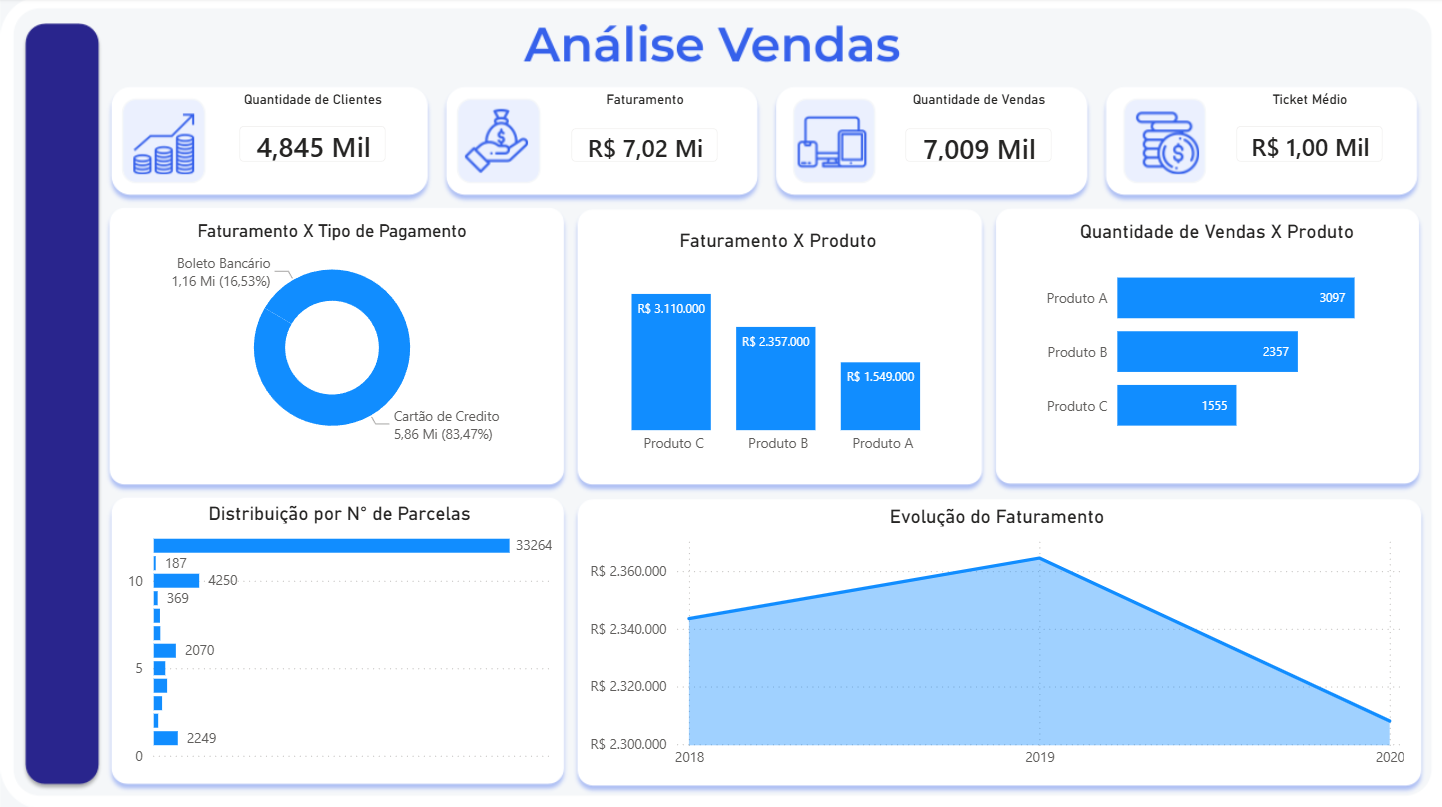

The page's visual inventory and layout, read from the dashboard file:
{"tool":"powerbi","page":{"name":"Página 1","canvas":[1280,720],"ordinal":0},"visuals":[{"type":"cardVisual","title":"Faturamento","fields":{"Data":["Sum(Vendas.Preço)"]},"box":[489.5,83.3,164.9,79.8],"z":0},{"type":"cardVisual","title":"Quantidade de Clientes","fields":{"Data":["Count(Vendas.E-mail)"]},"box":[195.1,83.3,164.9,79.8],"z":1000},{"type":"cardVisual","title":"Quantidade de Vendas","fields":{"Data":["CountNonNull(Vendas.Produto)"]},"box":[785.6,83.3,164.9,79.8],"z":2000},{"type":"cardVisual","title":"Ticket Médio","fields":{"Data":["Vendas.Medida"]},"box":[1079.1,83.3,164.9,79.8],"z":3000},{"type":"clusteredBarChart","title":"Quantidade de Vendas X Produto","fields":{"Category":["Vendas.Produto"],"Y":["Vendas.qtd de vendas"]},"box":[917.7,196.8,322.8,208.4],"z":4000},{"type":"columnChart","title":"Faturamento X Produto","fields":{"Category":["Vendas.Produto"],"Y":["Sum(Vendas.Preço)"]},"box":[517.8,204.8,344,208.4],"z":5000},{"type":"donutChart","title":"Faturamento X Tipo de Pagamento","fields":{"Y":["Sum(Vendas.Preço)"],"Category":["Vendas.Pgto."]},"box":[115.3,196.8,358.2,208.4],"z":6000},{"type":"barChart","title":"Distribuição por N° de Parcelas","fields":{"Category":["Vendas.Nº Parcelas"],"Y":["Sum(Vendas.Nº Parcelas)"]},"box":[107.3,446.9,387.5,244.7],"z":7000},{"type":"areaChart","title":"Evolução do Faturamento","fields":{"Category":["Vendas.Data.Variation.Hierarquia de datas.Ano","Vendas.Data.Variation.Hierarquia de datas.Trimestre","Vendas.Data.Variation.Hierarquia de datas.Mês","Vendas.Data.Variation.Hierarquia de datas.Dia"],"Y":["Sum(Vendas.Preço)"]},"box":[517.8,449.6,732.4,242.1],"z":8000}]}

Visuals, with their boxes in screenshot pixels (x1, y1, x2, y2), scaled from the page's 1280x720 canvas onto the 1442x807 screenshot:
"Faturamento" cardVisual: select_region(551, 93, 737, 183)
"Quantidade de Clientes" cardVisual: select_region(220, 93, 406, 183)
"Quantidade de Vendas" cardVisual: select_region(885, 93, 1071, 183)
"Ticket Médio" cardVisual: select_region(1216, 93, 1401, 183)
"Quantidade de Vendas X Produto" clusteredBarChart: select_region(1034, 221, 1398, 454)
"Faturamento X Produto" columnChart: select_region(583, 230, 971, 463)
"Faturamento X Tipo de Pagamento" donutChart: select_region(130, 221, 533, 454)
"Distribuição por N° de Parcelas" barChart: select_region(121, 501, 557, 775)
"Evolução do Faturamento" areaChart: select_region(583, 504, 1408, 775)
